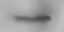LeftEyeFatigue: (9, 6, 56, 28)
